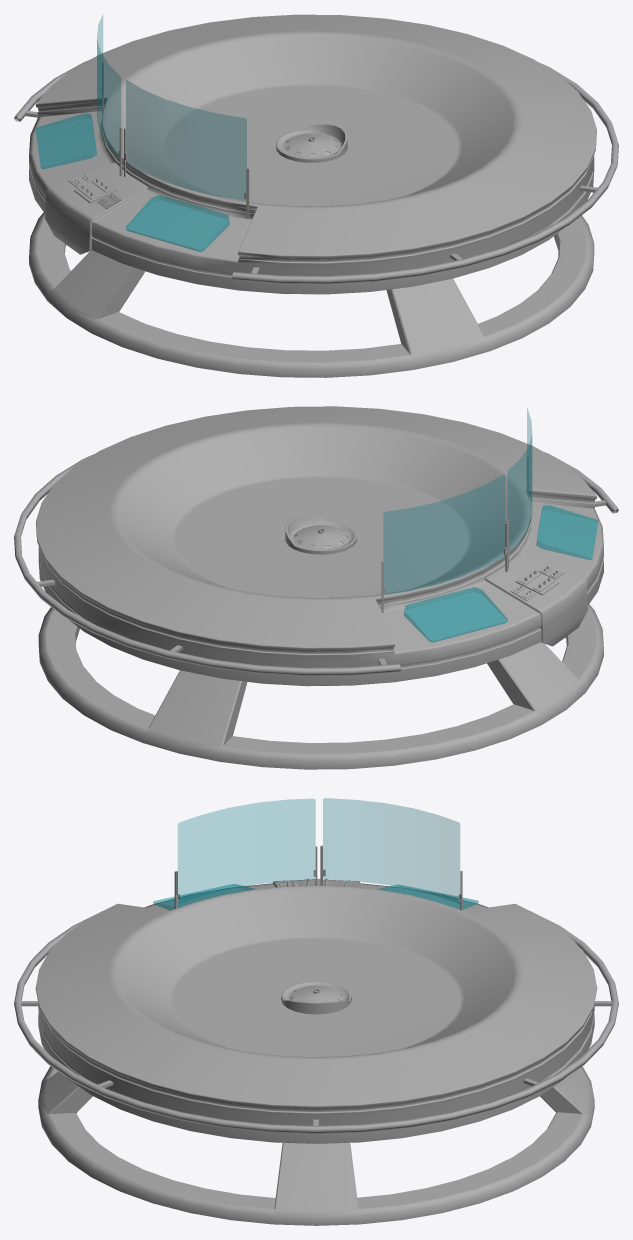
Rendered from RoundedTable_0002.fbx.
3 views of the same model, one above another, from view 1: azimuth 30°, elevation 25°; view 2: azimuth 150°, elevation 25°; view 3: azimuth 270°, elevation 25° (orthographic).
Parts seen in each view (by area): view 1: CourtTable; view 2: CourtTable; view 3: CourtTable.
Part boxes in pixels (left/top/right/bottom): CourtTable: left=14, top=14, right=618, bottom=377; CourtTable: left=14, top=406, right=618, bottom=769; CourtTable: left=14, top=798, right=618, bottom=1225.
Size of the model in its own units: 1690 by 706 by 1753.
